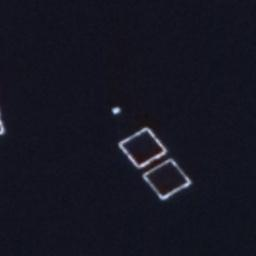square_solid: (113, 123, 172, 174), (139, 155, 196, 203)
